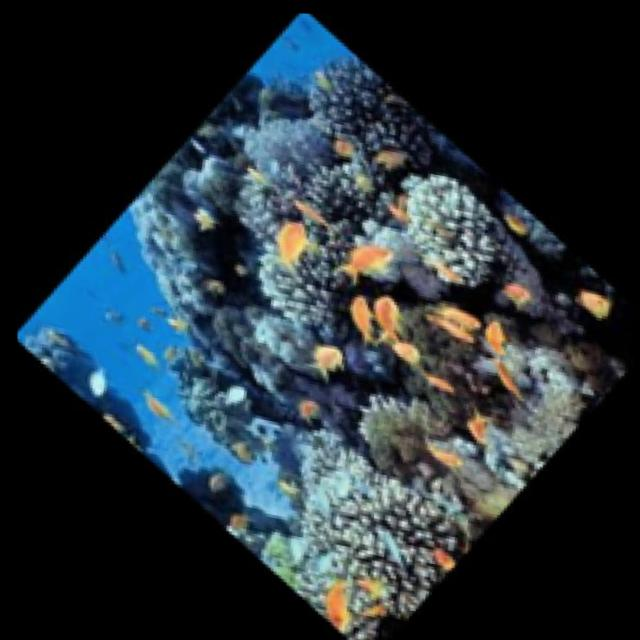Dead Coral: (297, 39, 398, 149)
